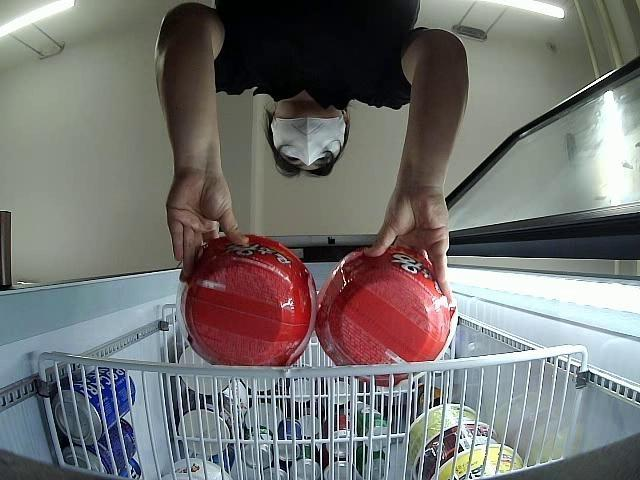10_wangTtukkeong: (318, 248, 456, 388), (176, 231, 314, 368)
